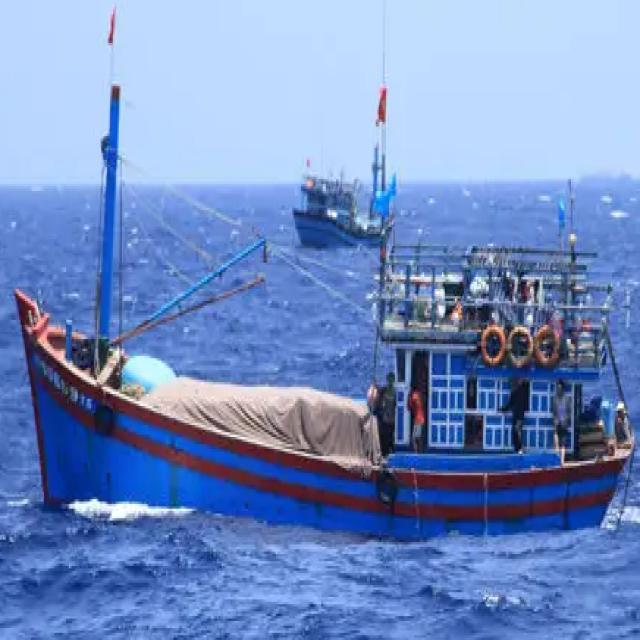fishing boat: (26, 85, 624, 545), (287, 78, 396, 240)
